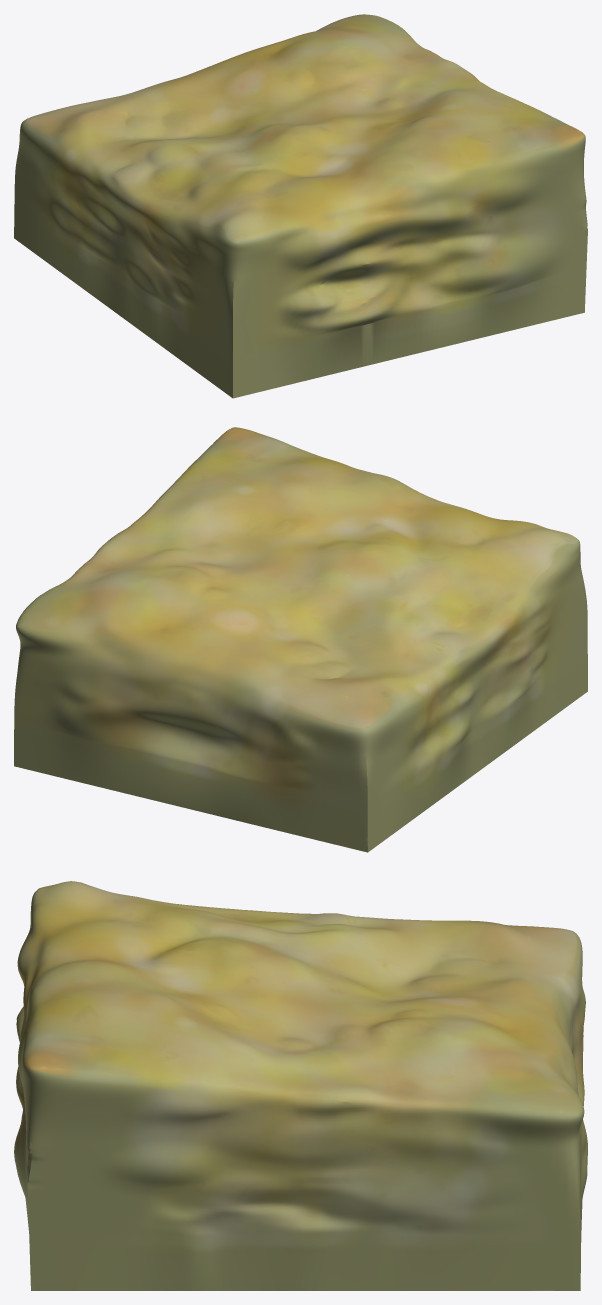
The model's file is poppareitaa.fbx.
The picture shows the model from 3 angles, top to bottom: view 1: azimuth 30°, elevation 25°; view 2: azimuth 150°, elevation 25°; view 3: azimuth 270°, elevation 25°; orthographic projection. The views are drawn at different scales.
Visible parts, largest first — view 1: popparit; view 2: popparit; view 3: popparit.
Part boxes in pixels (<box>): popparit: <box>14,14,587,398</box>; popparit: <box>14,427,587,852</box>; popparit: <box>14,881,587,1290</box>.
Size of the model in its own units: 68.53 by 32.81 by 74.34.
1 material, 1 textured.
